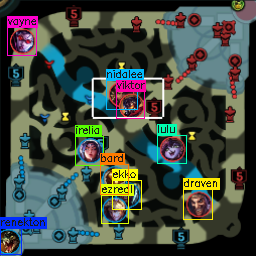bard: (102, 166, 126, 191)
draven: (186, 192, 211, 217)
ekko: (115, 183, 139, 206)
ezreal: (101, 198, 126, 222)
irelia: (77, 138, 101, 162)
lulu: (160, 135, 184, 161)
nidalee: (108, 82, 134, 107)
renekton: (1, 229, 20, 255)
vayne: (10, 28, 33, 53)
viktor: (119, 93, 144, 118)
